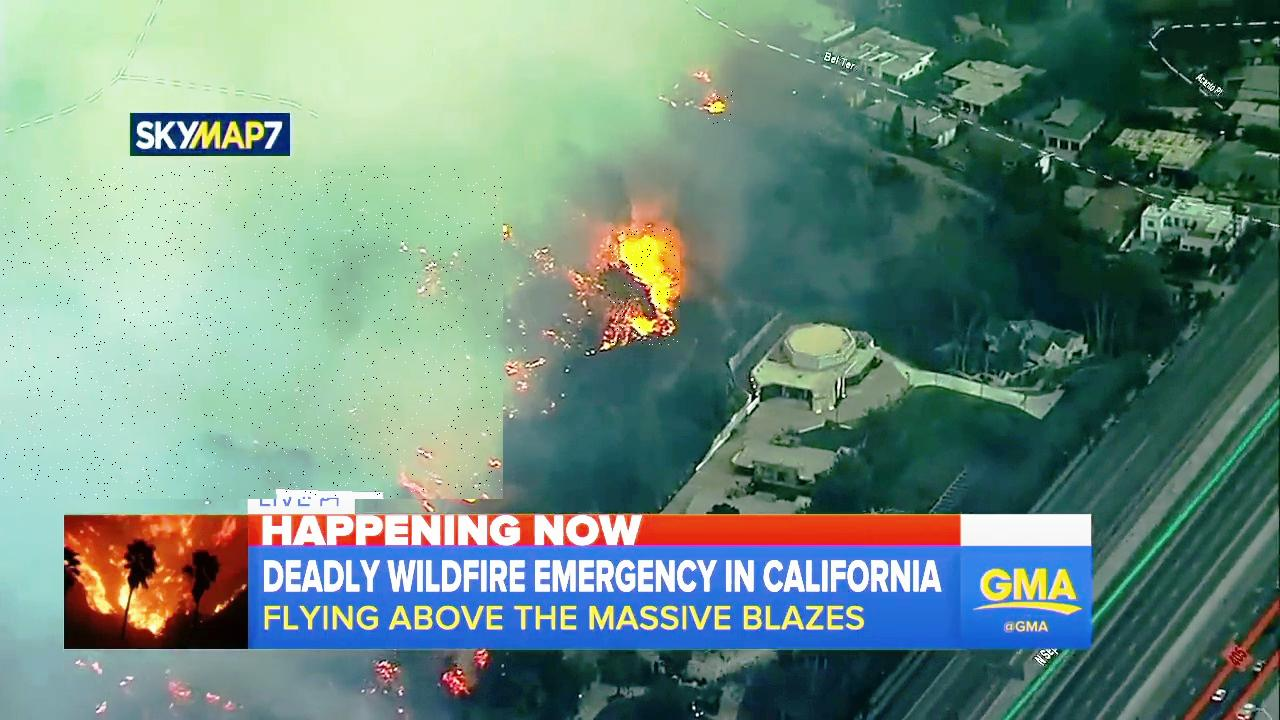fire: (609, 227, 680, 346), (708, 90, 733, 126), (496, 224, 513, 242)
smoke: (3, 166, 503, 499)
